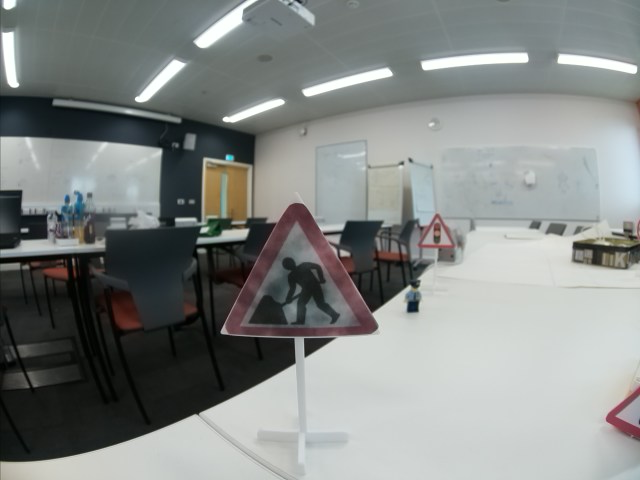Lego Man: (404, 279, 425, 313)
Roadworks: (222, 199, 376, 340)
Traffic lights: (416, 214, 457, 250)
